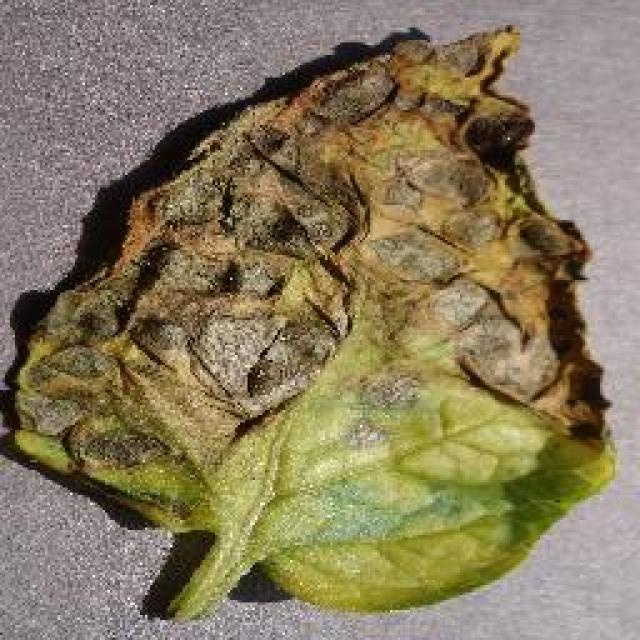Potato___Early_blight: (0, 7, 630, 640)
